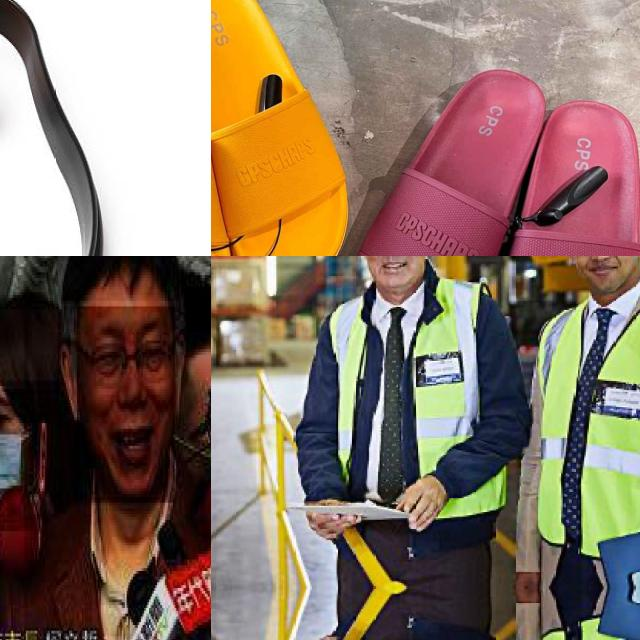Ear-protection: (0, 0, 117, 256)
No_Ear-Protection: (568, 256, 577, 260)
Sandals: (336, 29, 640, 256), (211, 0, 364, 256)
face_mask: (0, 389, 35, 534)
face_nomask: (77, 306, 176, 506), (576, 256, 639, 295), (367, 256, 426, 288)
glasses: (90, 332, 178, 389)
hand_noglove: (396, 475, 448, 531), (306, 513, 360, 540)
head_nohelmet: (56, 256, 184, 303), (0, 309, 59, 383)
person: (24, 256, 211, 640)
